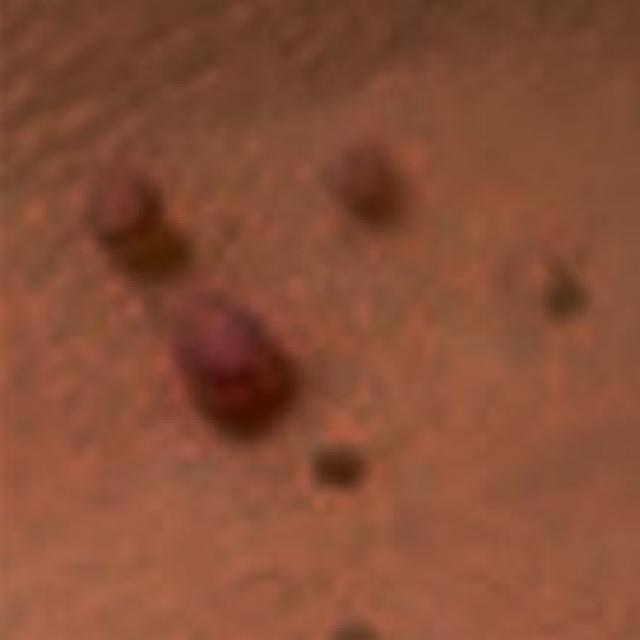wart: (162, 280, 313, 440), (81, 162, 171, 249), (318, 133, 396, 223), (521, 240, 585, 316), (308, 432, 370, 489)
